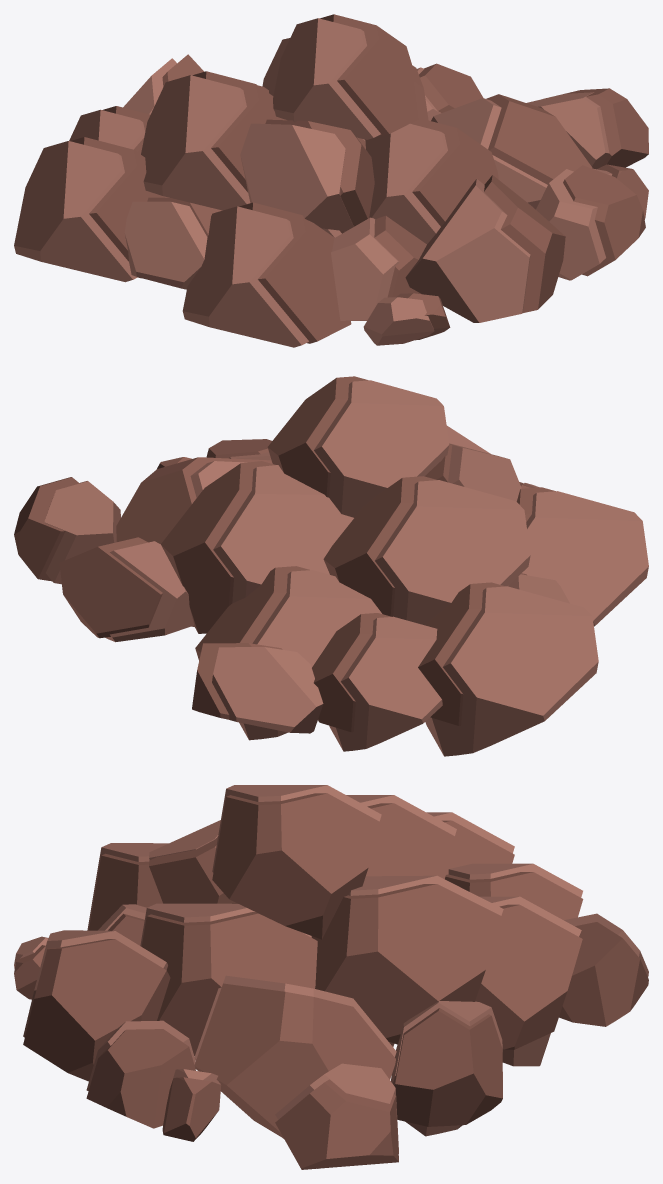
File: Iron Ore Collected.fbx
3 renders of one model, top to bottom at view 1: azimuth 30°, elevation 25°; view 2: azimuth 150°, elevation 25°; view 3: azimuth 270°, elevation 25°, orthographic. The views are drawn at different scales.
Visible parts, largest first — view 1: Coal_Collected2, pSphere18, pSphere20, pSphere28, pSphere13, pSphere14, pSphere33, pSphere21, pSphere19, pSphere31, pSphere25, pSphere24 (+5 smaller); view 2: Coal_Collected2, pSphere18, pSphere13, pSphere33, pSphere20, pSphere23, pSphere17, pSphere30, pSphere16, pSphere35, pSphere27, pSphere14 (+2 smaller); view 3: Coal_Collected2, pSphere35, pSphere33, pSphere27, pSphere16, pSphere24, pSphere23, pSphere21, pSphere28, pSphere17, pSphere14, pSphere25 (+4 smaller).
Part boxes in pixels (x1=…): Coal_Collected2: x1=70, y1=14, x2=648, y2=343; pSphere18: x1=14, y1=141, x2=137, y2=282; pSphere20: x1=182, y1=206, x2=308, y2=347; pSphere28: x1=405, y1=179, x2=530, y2=322; pSphere13: x1=141, y1=75, x2=250, y2=210; pSphere14: x1=240, y1=123, x2=353, y2=231; pSphere33: x1=273, y1=18, x2=380, y2=139; pSphere21: x1=344, y1=123, x2=447, y2=243; pSphere19: x1=124, y1=201, x2=207, y2=289; pSphere31: x1=331, y1=217, x2=399, y2=320; pSphere25: x1=536, y1=169, x2=605, y2=280; pSphere24: x1=431, y1=98, x2=547, y2=209; Coal_Collected2: x1=14, y1=376, x2=555, y2=732; pSphere18: x1=425, y1=586, x2=598, y2=756; pSphere13: x1=375, y1=480, x2=530, y2=625; pSphere33: x1=314, y1=380, x2=449, y2=517; pSphere20: x1=522, y1=491, x2=648, y2=626; pSphere23: x1=213, y1=465, x2=353, y2=603; pSphere17: x1=329, y1=616, x2=442, y2=751; pSphere30: x1=212, y1=647, x2=323, y2=733; pSphere16: x1=239, y1=570, x2=381, y2=740; pSphere35: x1=44, y1=481, x2=120, y2=584; pSphere27: x1=105, y1=541, x2=194, y2=642; pSphere14: x1=448, y1=443, x2=521, y2=501; Coal_Collected2: x1=14, y1=793, x2=648, y2=1169; pSphere35: x1=275, y1=1063, x2=398, y2=1153; pSphere33: x1=212, y1=785, x2=381, y2=872; pSphere27: x1=391, y1=1001, x2=502, y2=1136; pSphere16: x1=479, y1=896, x2=581, y2=1066; pSphere24: x1=194, y1=975, x2=396, y2=1168; pSphere23: x1=348, y1=875, x2=503, y2=915; pSphere21: x1=140, y1=903, x2=311, y2=946; pSphere28: x1=23, y1=930, x2=167, y2=1037; pSphere17: x1=448, y1=863, x2=582, y2=897; pSphere14: x1=149, y1=820, x2=220, y2=859; pSphere25: x1=86, y1=1020, x2=195, y2=1090.
Bounding box in the file's own units: 1.21 × 0.5207 × 1.05.
